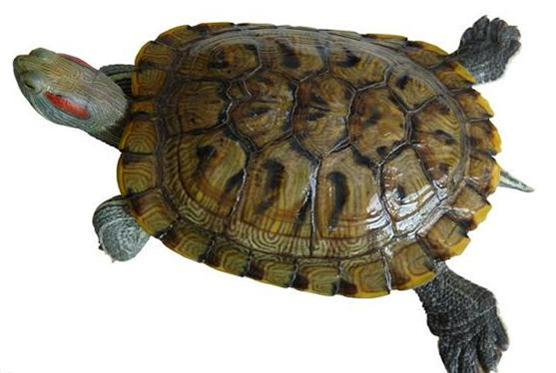tortoise: (9, 13, 522, 372)
